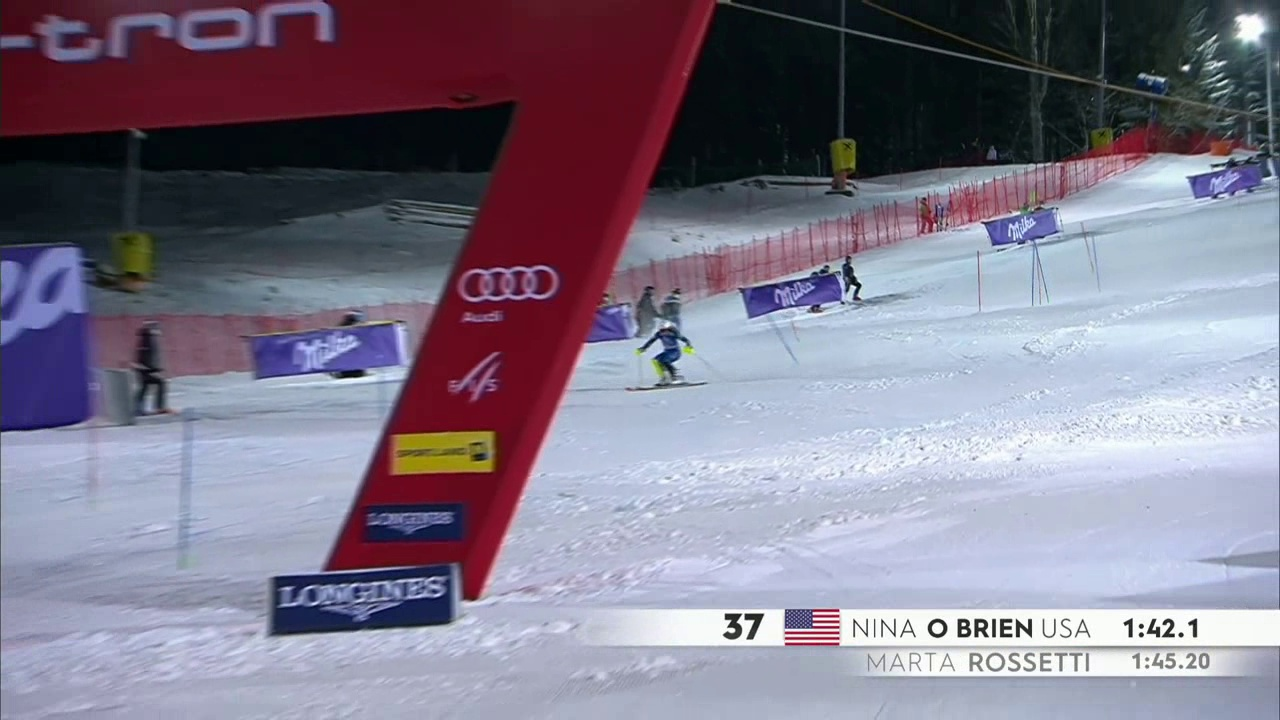audi: (452, 261, 569, 313)
etron: (25, 1, 332, 91)
longines: (273, 566, 447, 634), (357, 505, 467, 545)
milka: (1, 248, 97, 439)
